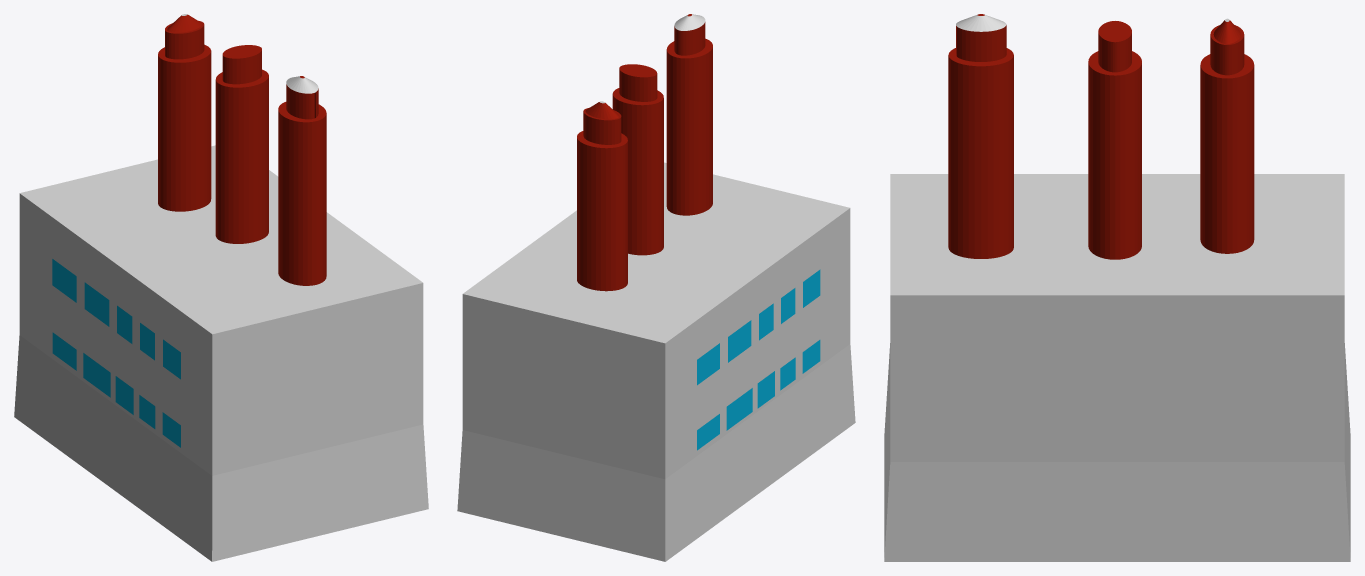
File: BUILD 4 INFRAS.fbx
3 renders of one model, left to right at view 1: azimuth 30°, elevation 25°; view 2: azimuth 150°, elevation 25°; view 3: azimuth 270°, elevation 25°, orthographic. The views are drawn at different scales.
Parts seen in each view (by area): view 1: Plane.054, Plane.056, PABRIK, Plane.055; view 2: Plane.054, PABRIK, Plane.055, Plane.056; view 3: Plane.054, Plane.055, Plane.056, PABRIK.
Boxes of the visible parts, <box> form: Plane.054: <box>14,145,428,561</box>; Plane.056: <box>215,45,268,243</box>; PABRIK: <box>158,14,211,211</box>; Plane.055: <box>278,76,326,285</box>; Plane.054: <box>457,162,855,561</box>; PABRIK: <box>577,101,627,291</box>; Plane.055: <box>666,14,712,215</box>; Plane.056: <box>612,64,663,255</box>; Plane.054: <box>884,174,1350,561</box>; Plane.055: <box>948,14,1013,258</box>; Plane.056: <box>1088,21,1141,259</box>; PABRIK: <box>1200,18,1254,253</box>.
Size of the model in its own units: 3501 by 6522 by 5539.
